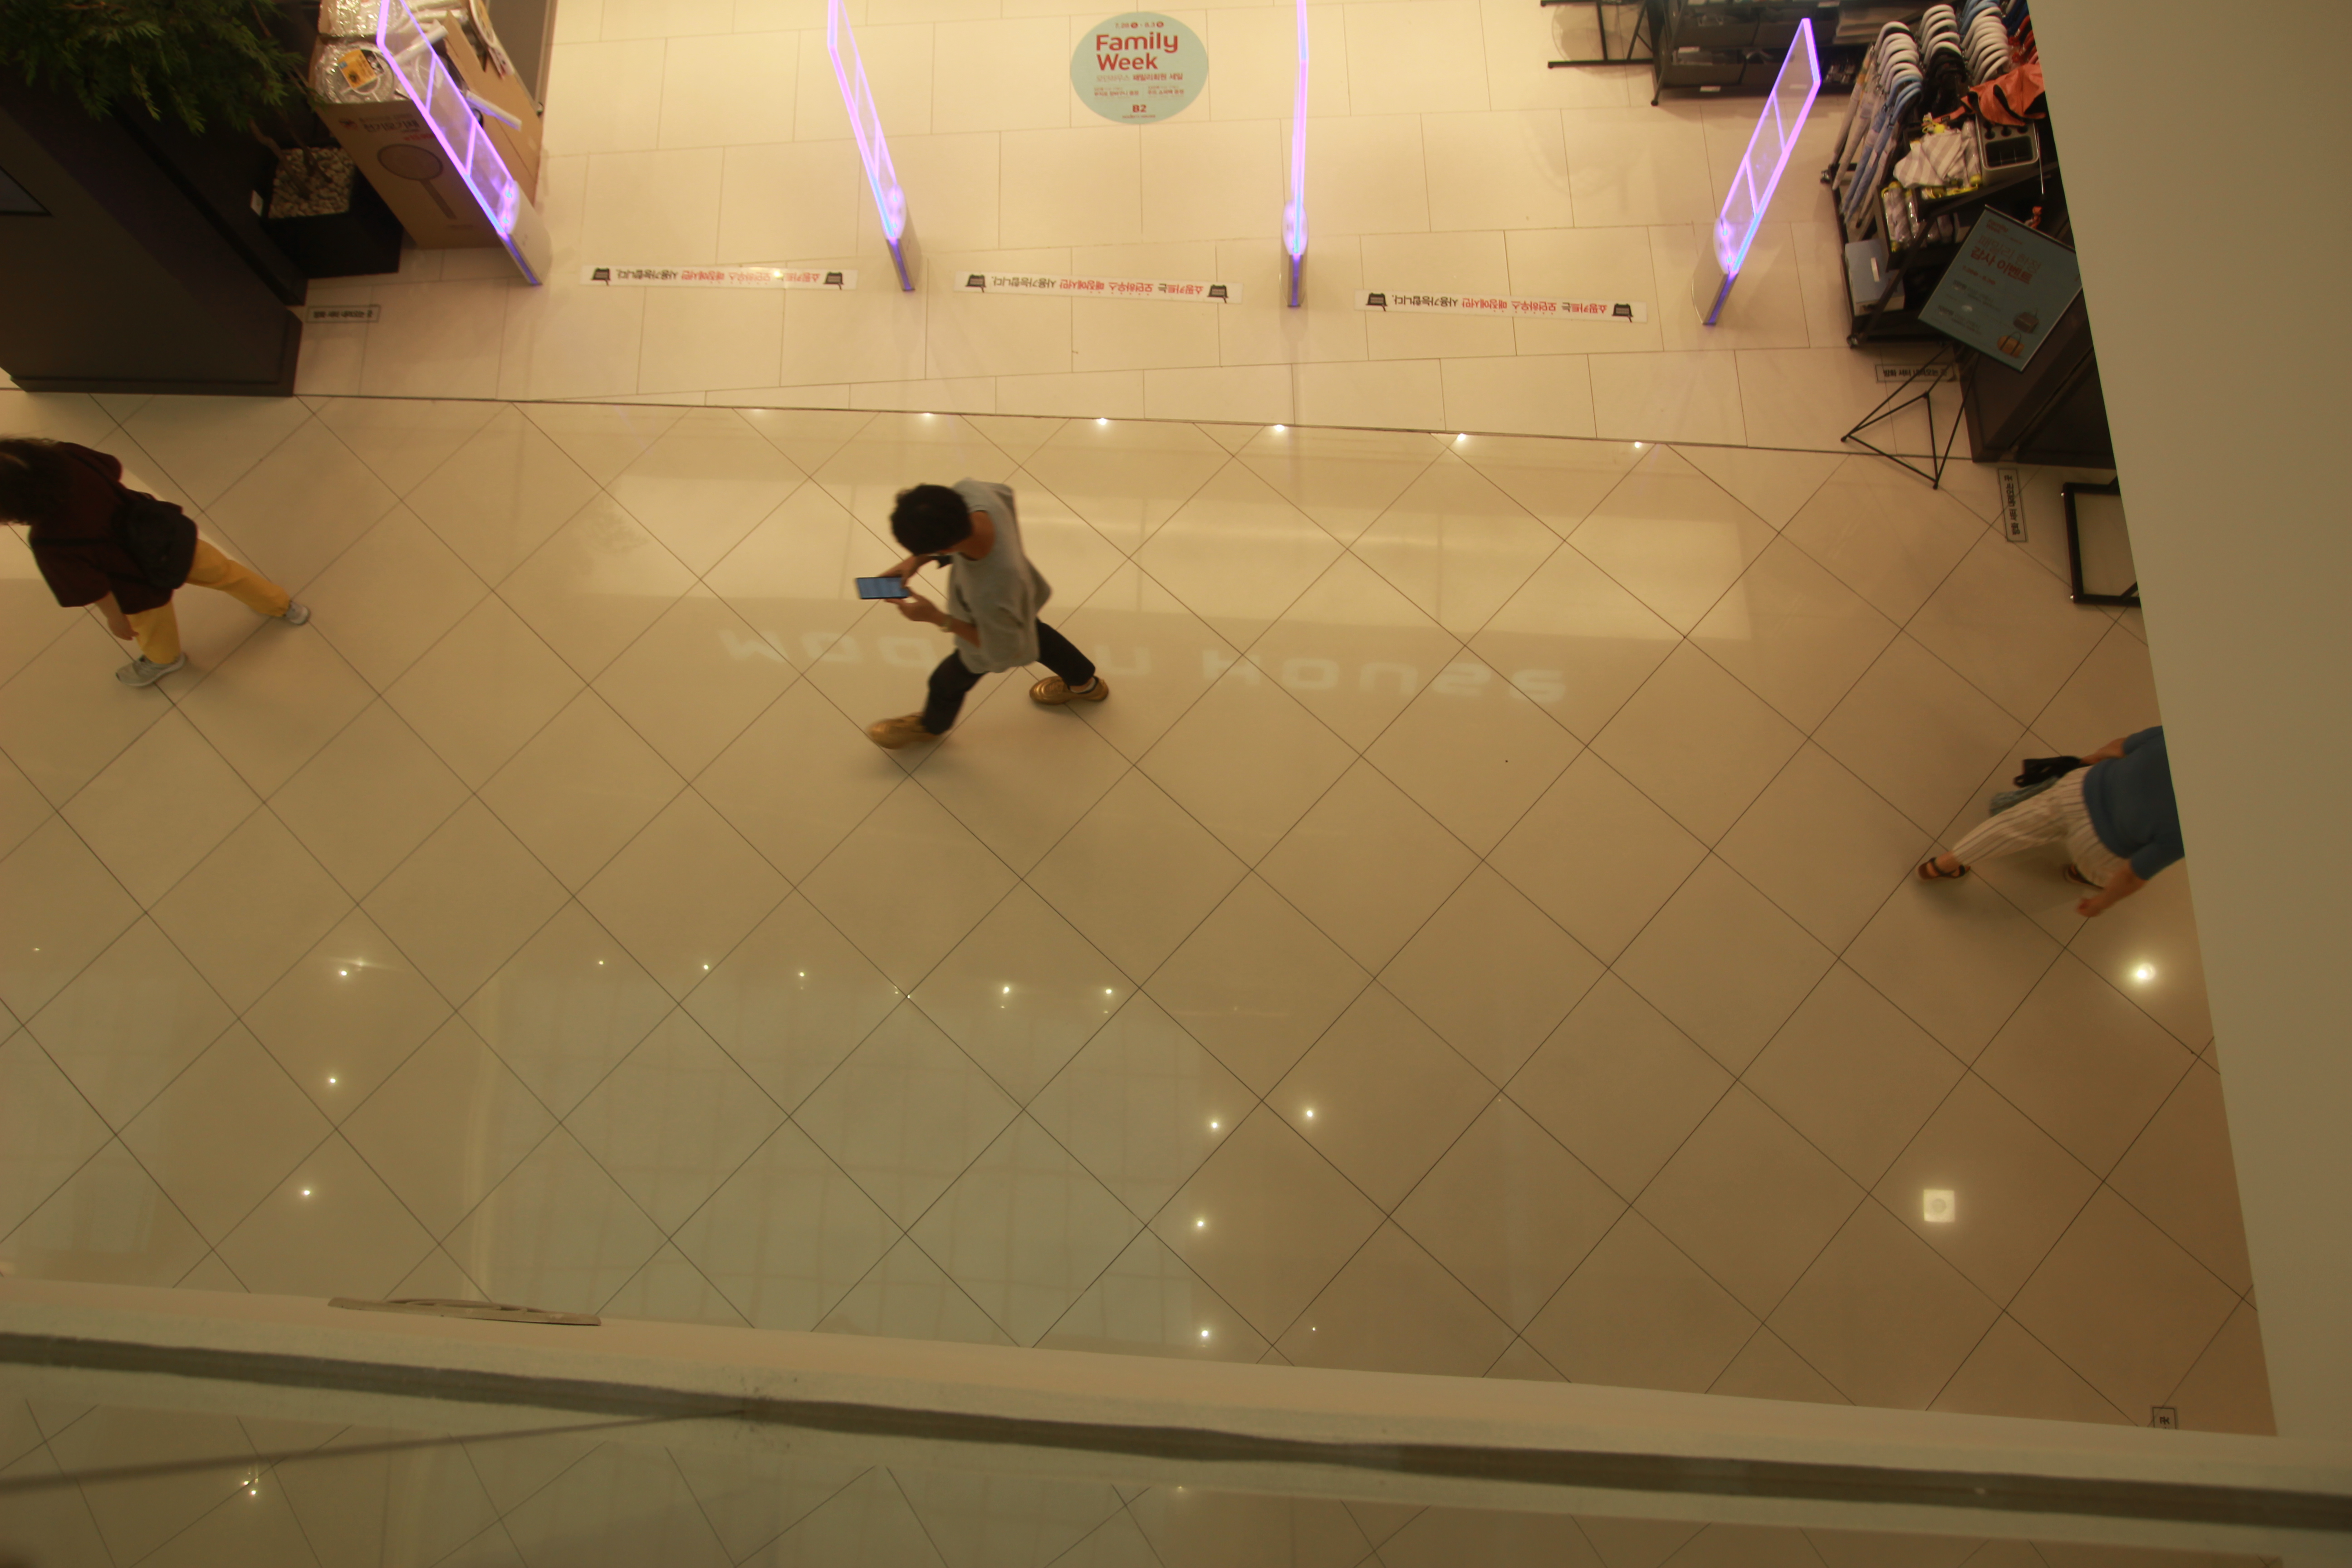person: (5, 436, 307, 685), (856, 476, 1108, 753), (1920, 724, 2185, 919)
